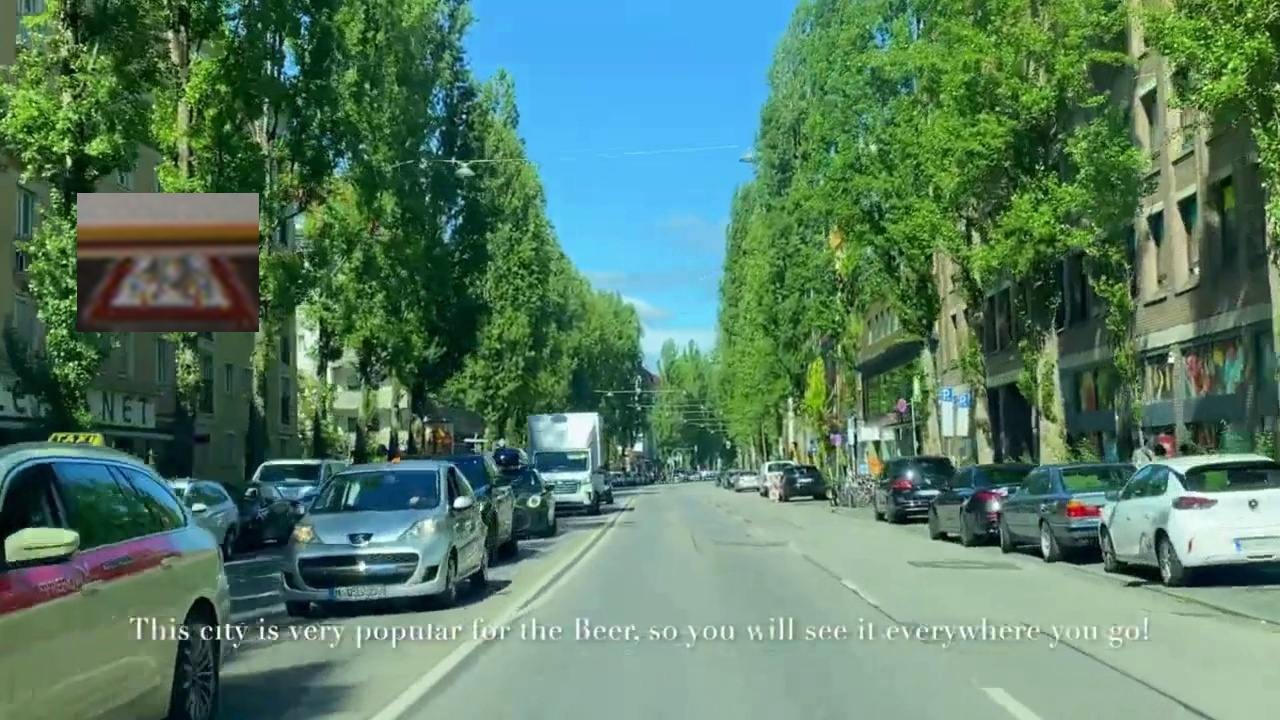Bicycles: (77, 193, 259, 332)
